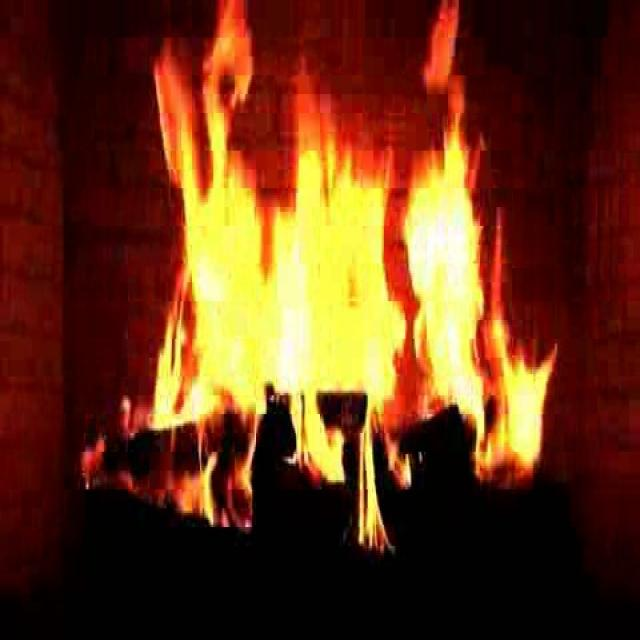fire: (142, 54, 540, 511)
